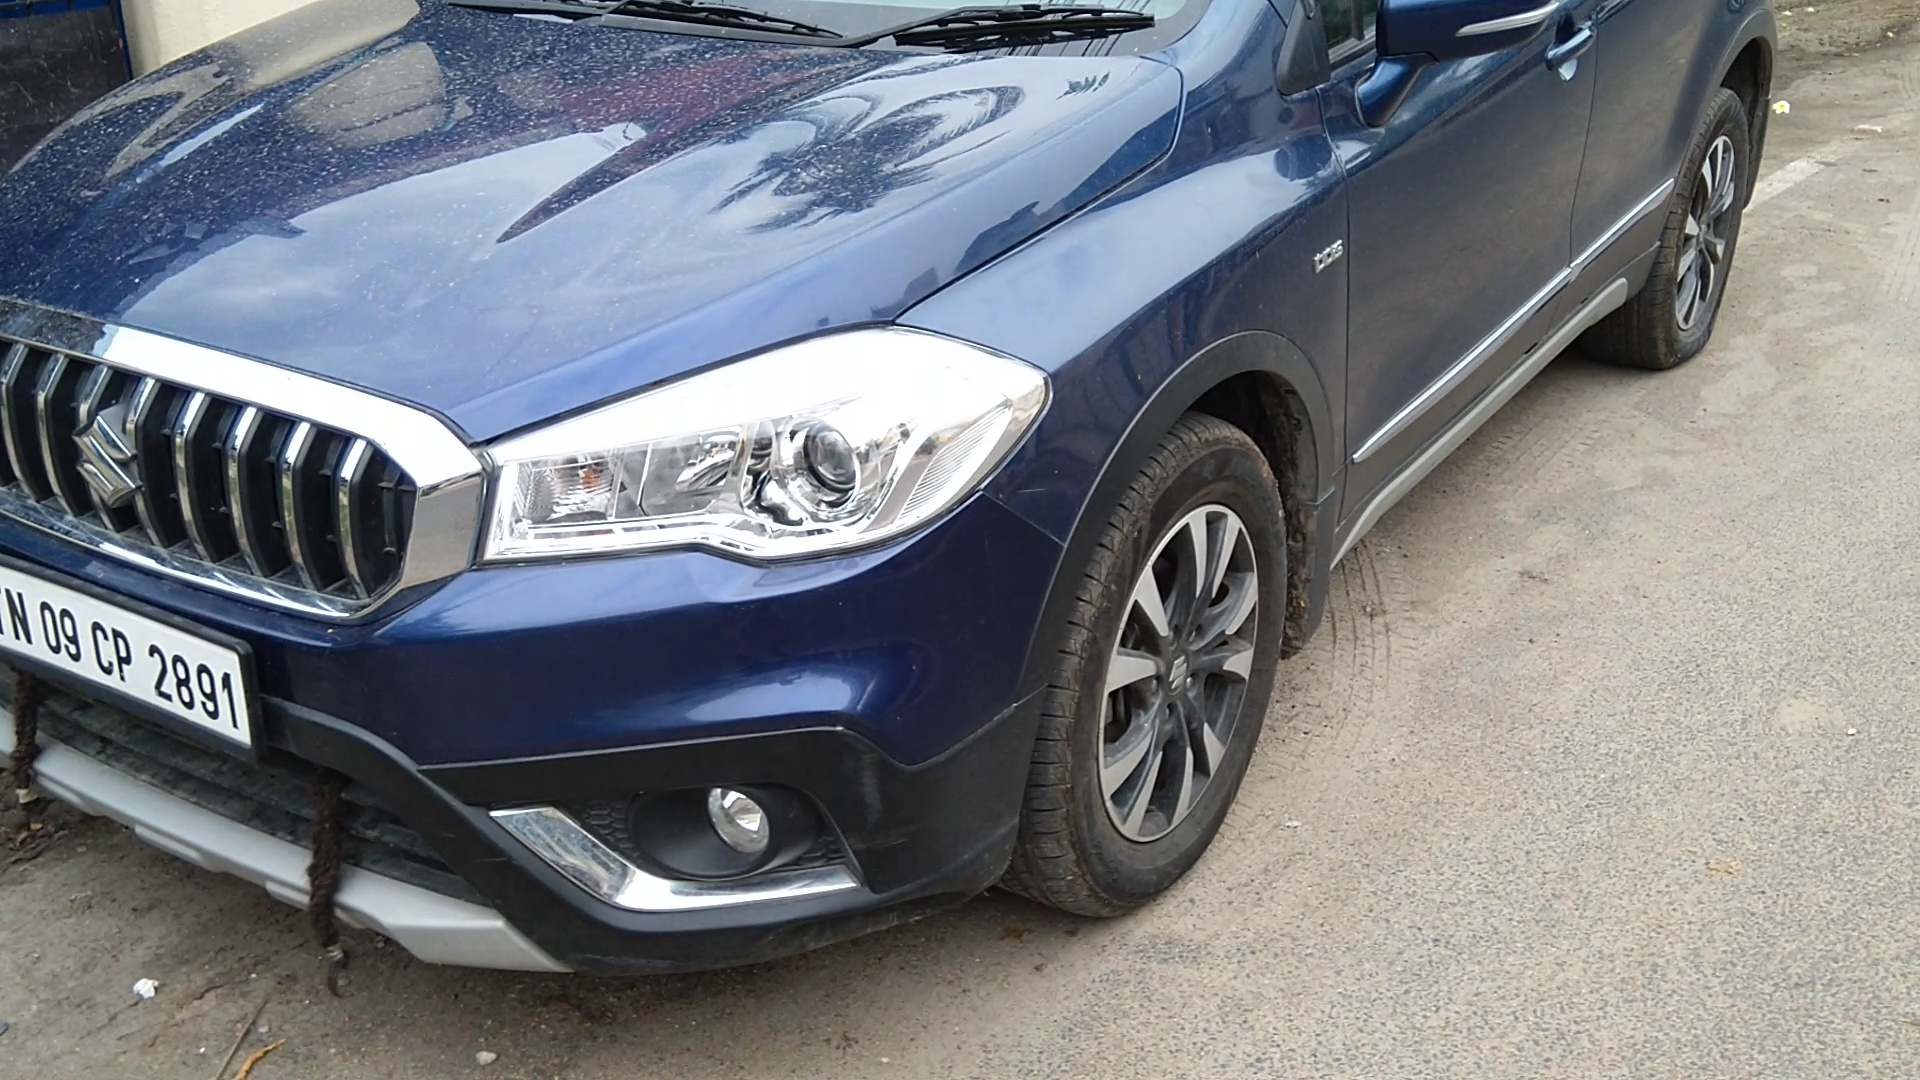alloy_wheel: (1058, 421, 1280, 909), (1642, 88, 1760, 365)
front_grill: (3, 266, 467, 628)
headlamp: (469, 319, 1050, 596)
